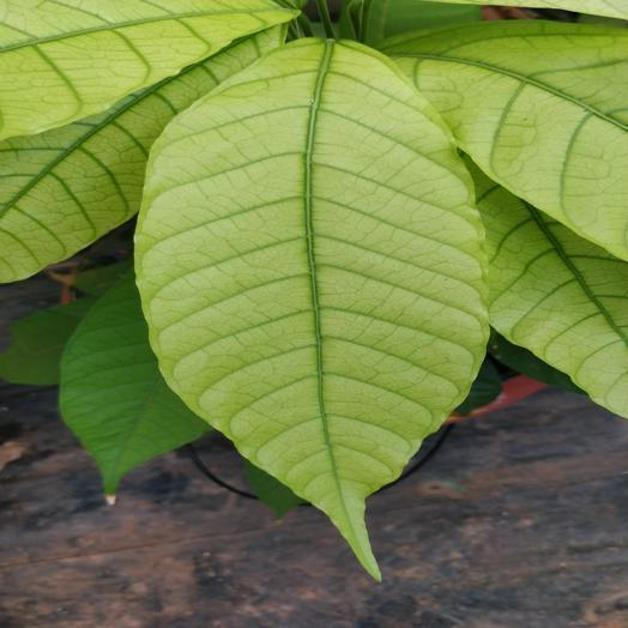Healthy Leaf: (61, 271, 209, 500)
Iron: (137, 39, 488, 577), (0, 28, 279, 281), (383, 20, 627, 259), (0, 0, 291, 138), (469, 166, 627, 416)
